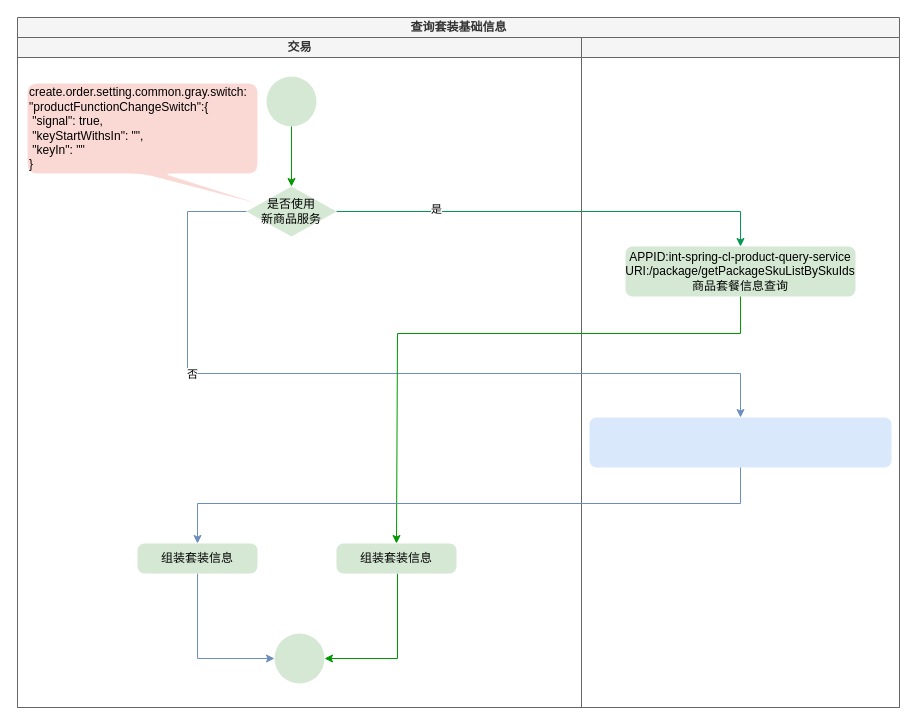
Image size: 917x725. Some labels were removed from this diagram. Each missing label, with the box of its shape:
APPID:product-client URI:/Product/ProductForYeWu/SelectProductPackage 套装信息查询: (589, 417, 891, 467)
开始: (266, 76, 316, 126)
结束: (274, 633, 324, 683)
门店: (580, 36, 900, 708)
